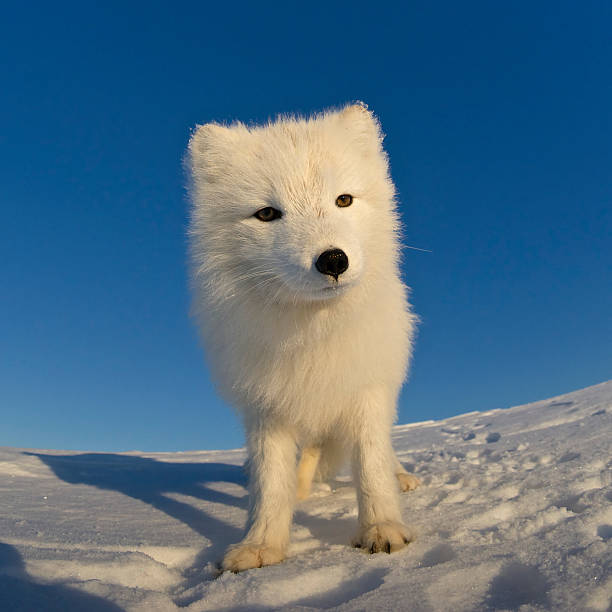arcticfox: (225, 144, 387, 312)
